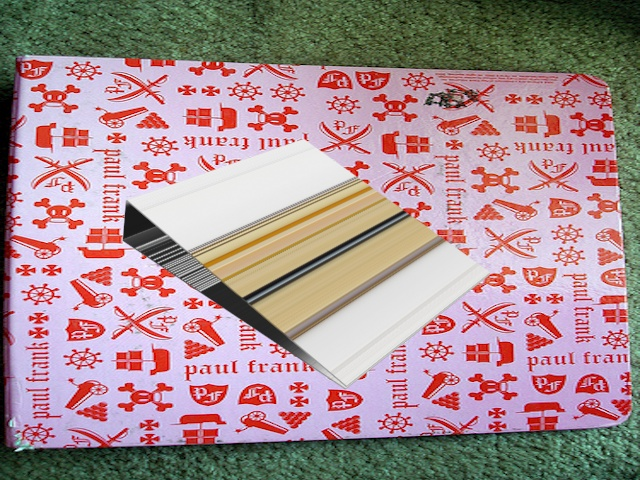ring_binder: (121, 137, 496, 392)
